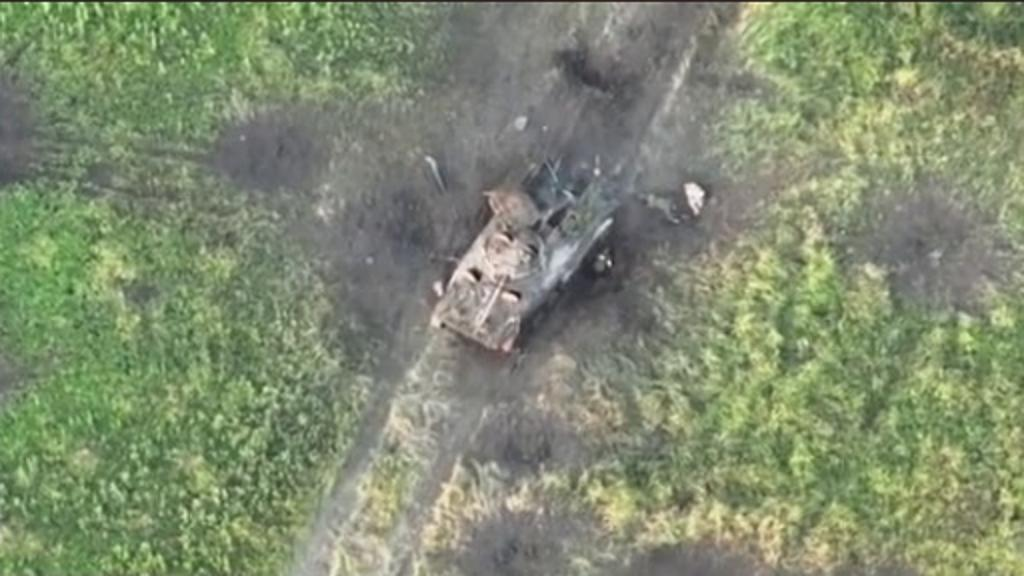APC-IFV: (402, 176, 632, 356)
